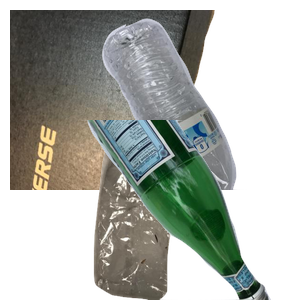cardboard: (10, 10, 217, 190)
glass: (75, 120, 300, 300)
plastic: (100, 16, 300, 196)
trash: (70, 120, 256, 300)
